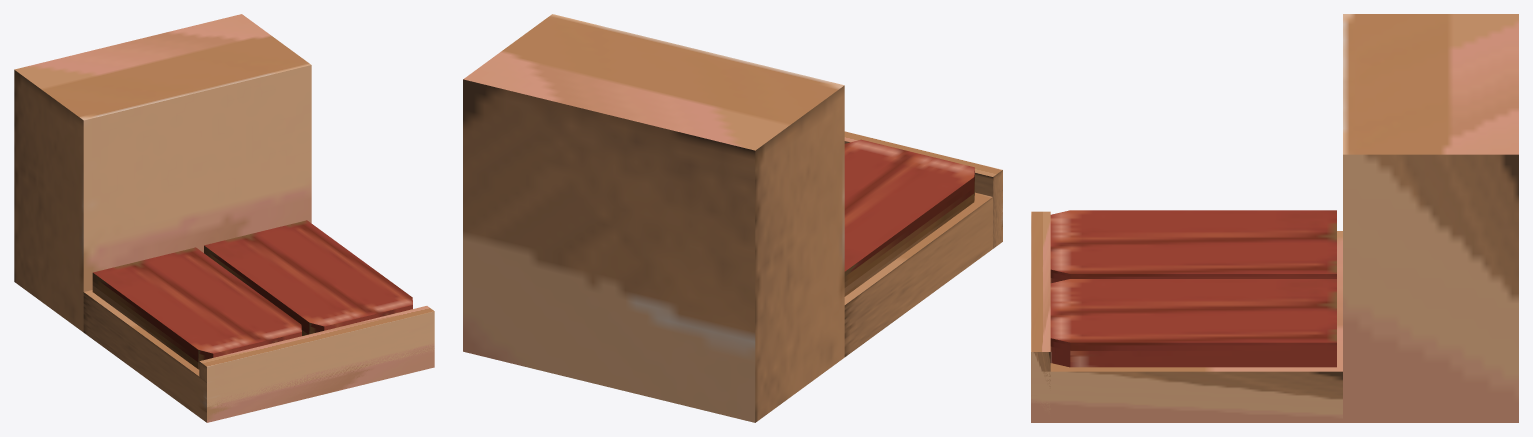
File: pz_spiffos_lounge_0_fidelity_r1.obj
The picture shows the model from 3 angles, left to right: view 1: azimuth 30°, elevation 25°; view 2: azimuth 150°, elevation 25°; view 3: azimuth 270°, elevation 25°; orthographic projection. The views are drawn at different scales.
Visible parts, largest first — view 1: pz_spiffos_lounge_0_fidelity_r1; view 2: pz_spiffos_lounge_0_fidelity_r1; view 3: pz_spiffos_lounge_0_fidelity_r1.
Part boxes in pixels (box(x1,y1,x2,y2)): pz_spiffos_lounge_0_fidelity_r1: box(14, 14, 434, 422); pz_spiffos_lounge_0_fidelity_r1: box(463, 14, 1002, 422); pz_spiffos_lounge_0_fidelity_r1: box(1031, 14, 1518, 422).
Size of the model in its own units: 0.85 by 0.757 by 1.25.
Materials: 1 (1 with a texture image).
